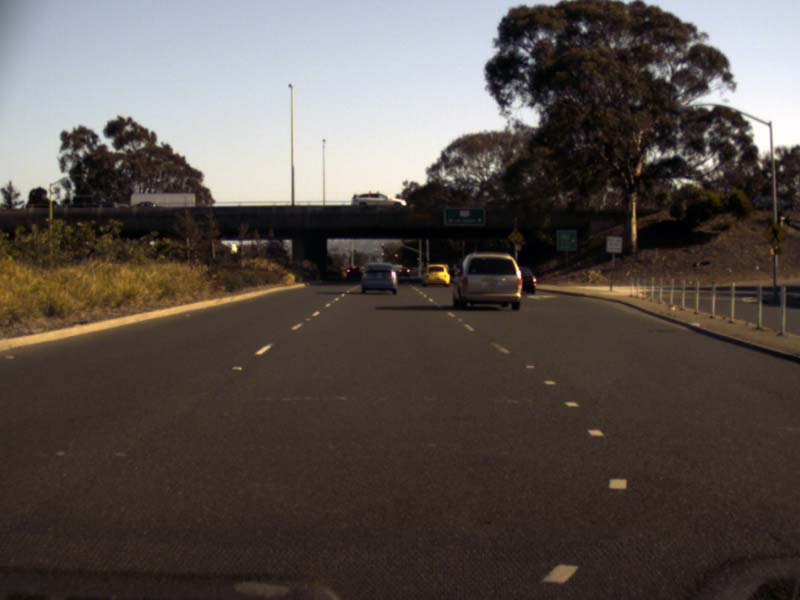Red: (380, 242, 384, 248), (394, 253, 398, 257), (416, 257, 419, 261)
